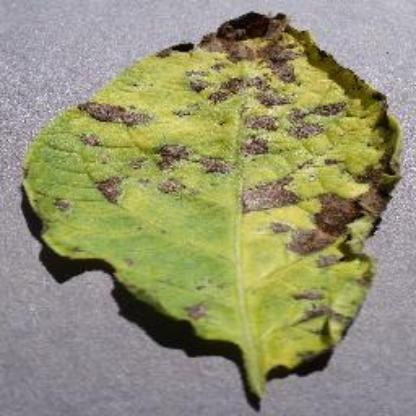Early-Blight: (19, 13, 405, 404)
